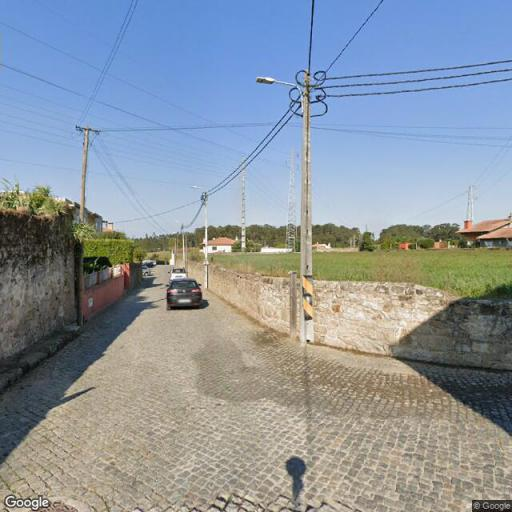mono_7: (74, 121, 98, 222)
mono_9: (236, 151, 252, 258)
ss_4: (282, 142, 300, 251), (465, 183, 477, 224)
